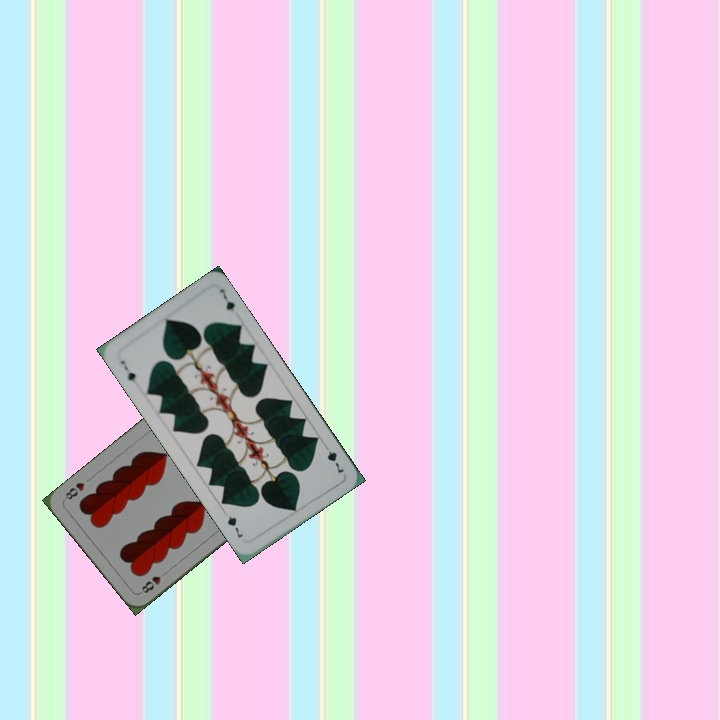G7: (320, 440, 347, 478), (116, 356, 142, 388)
H8: (136, 566, 171, 596)
